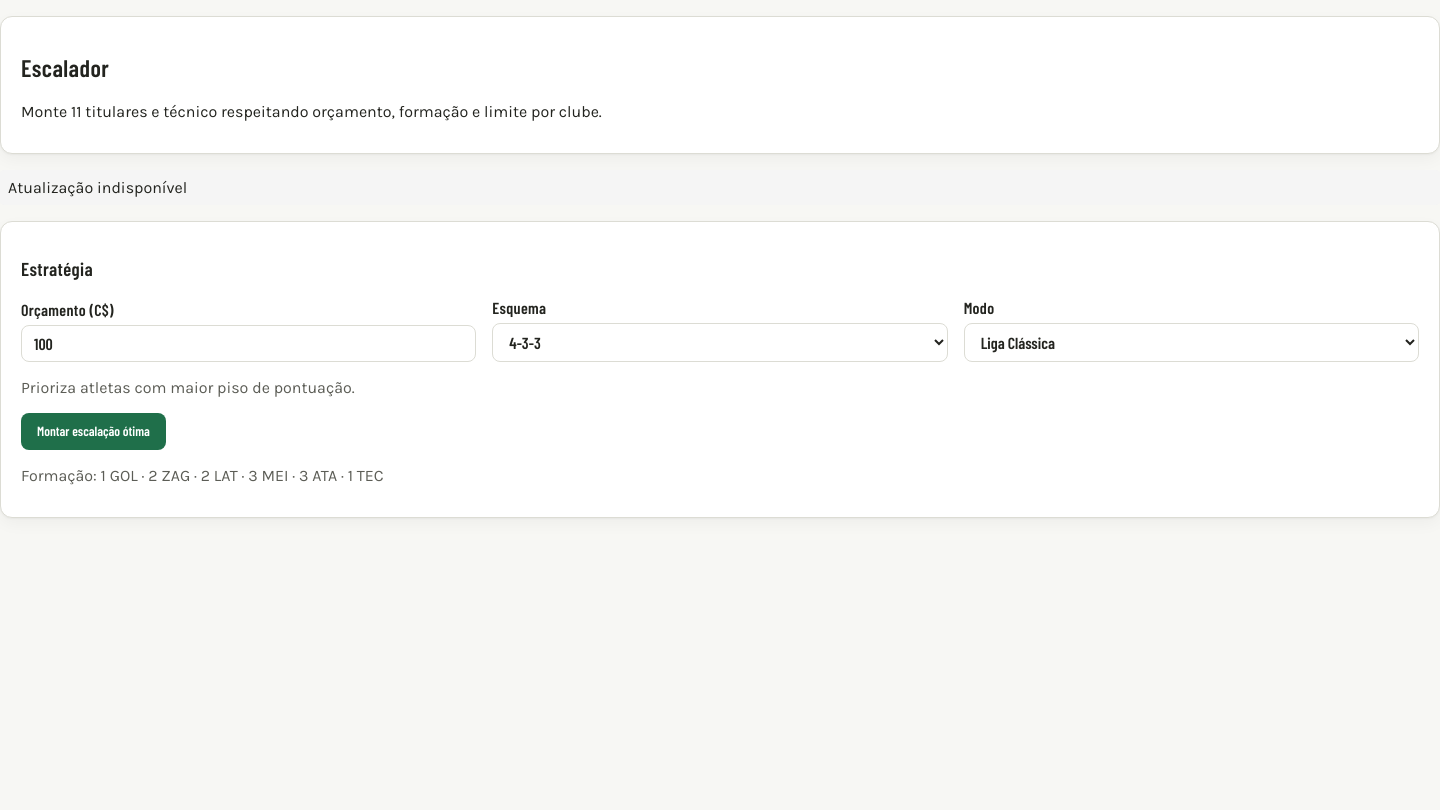
Test case: Escalador › traduz inviabilidade em orientação acionável sem escalação parcial
Click the button "Montar escalação ótima": click(93, 431) [21,413,166,450]
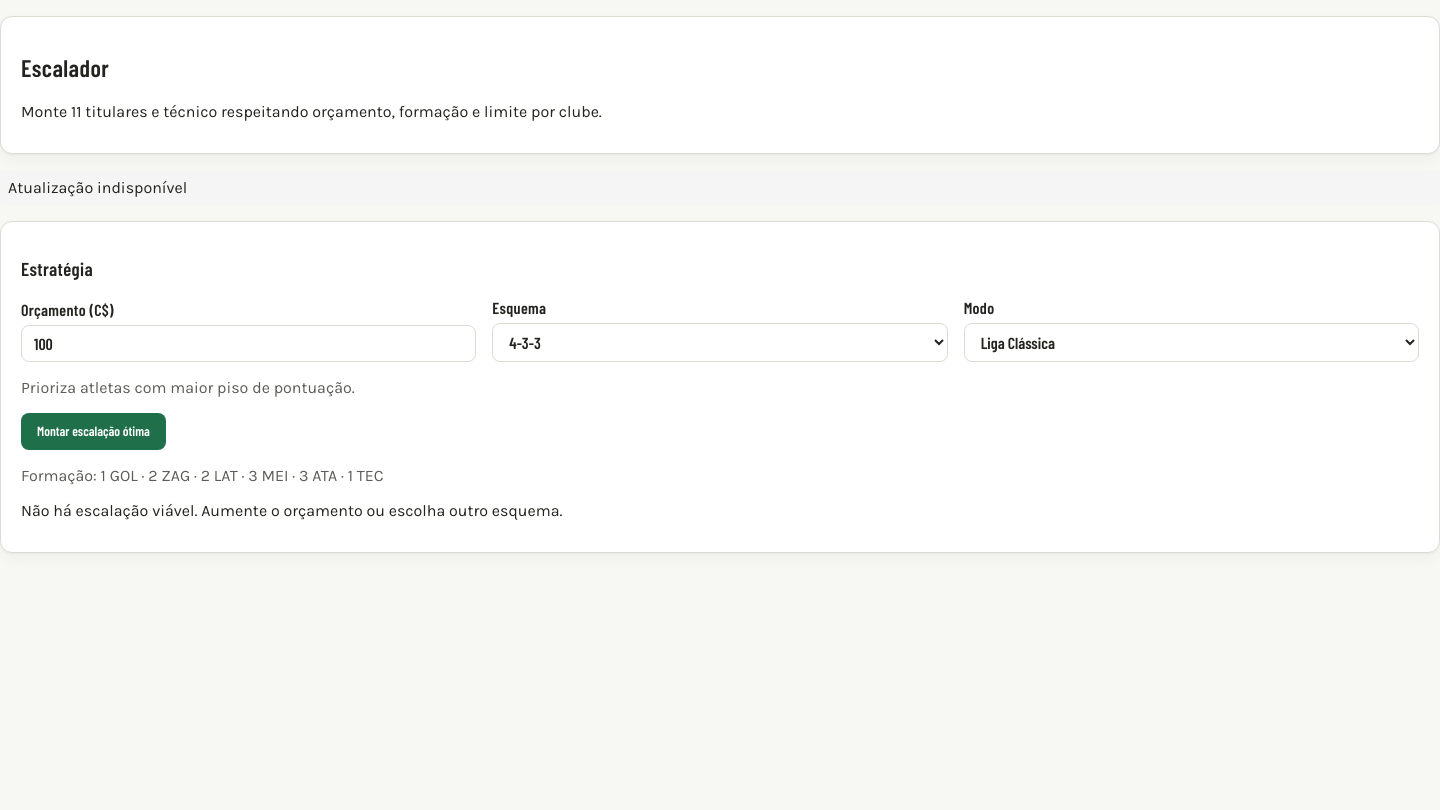
expect the message "Não há escalação viável. Aumente o orçamento ou escolha outro esquema." is shown: met, box [21,501,562,520]
